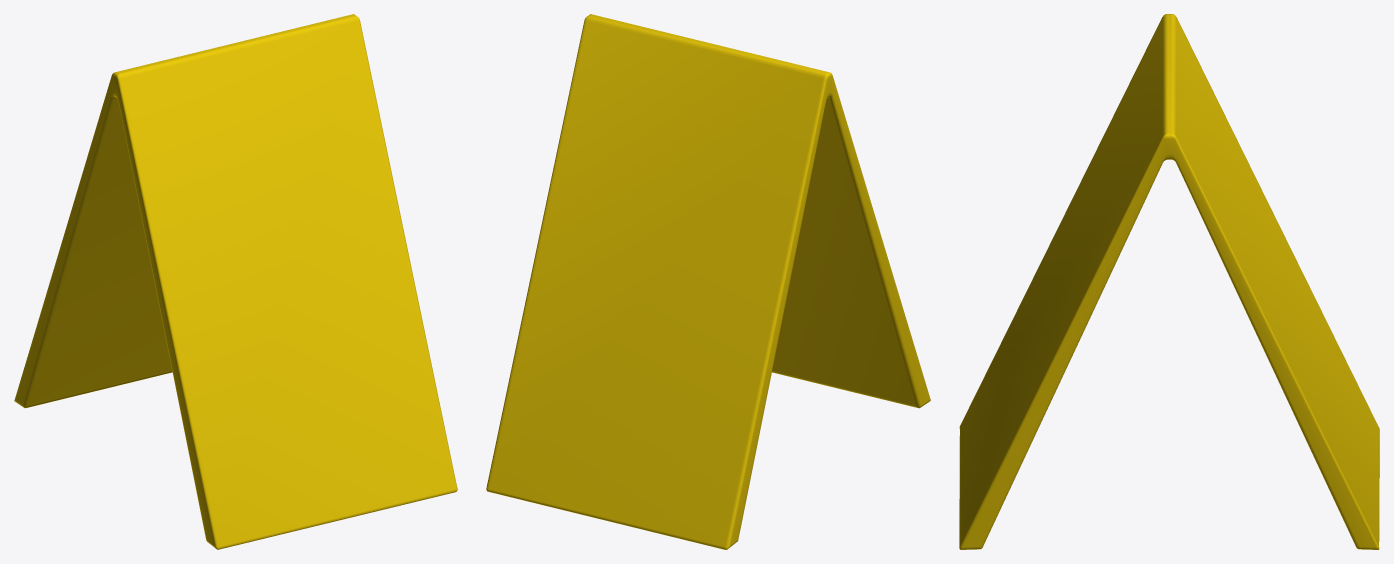
Rendered from Evidence_Marker.fbx.
The picture shows the model from 3 angles, left to right: view 1: azimuth 30°, elevation 25°; view 2: azimuth 150°, elevation 25°; view 3: azimuth 270°, elevation 25°; orthographic projection. The views are drawn at different scales.
Visible parts, largest first — view 1: Cube; view 2: Cube; view 3: Cube.
Part boxes in pixels (x1,y1,x2,y2): Cube: (14,14,457,549); Cube: (486,14,930,549); Cube: (959,14,1379,549).
Size of the model in its own units: 145 by 230 by 211.
